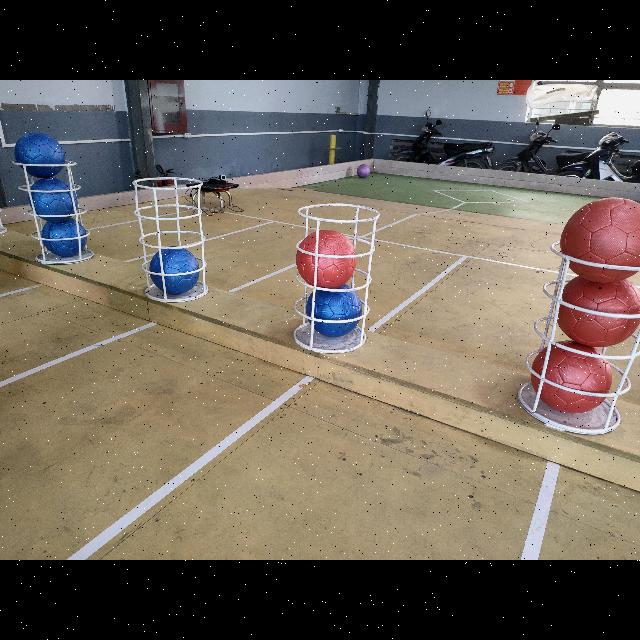B: (306, 284, 364, 338), (151, 246, 197, 294), (16, 132, 64, 178), (31, 177, 79, 223), (44, 216, 86, 258)
R: (560, 196, 640, 284), (529, 340, 611, 414), (556, 274, 640, 346), (295, 230, 355, 288)
